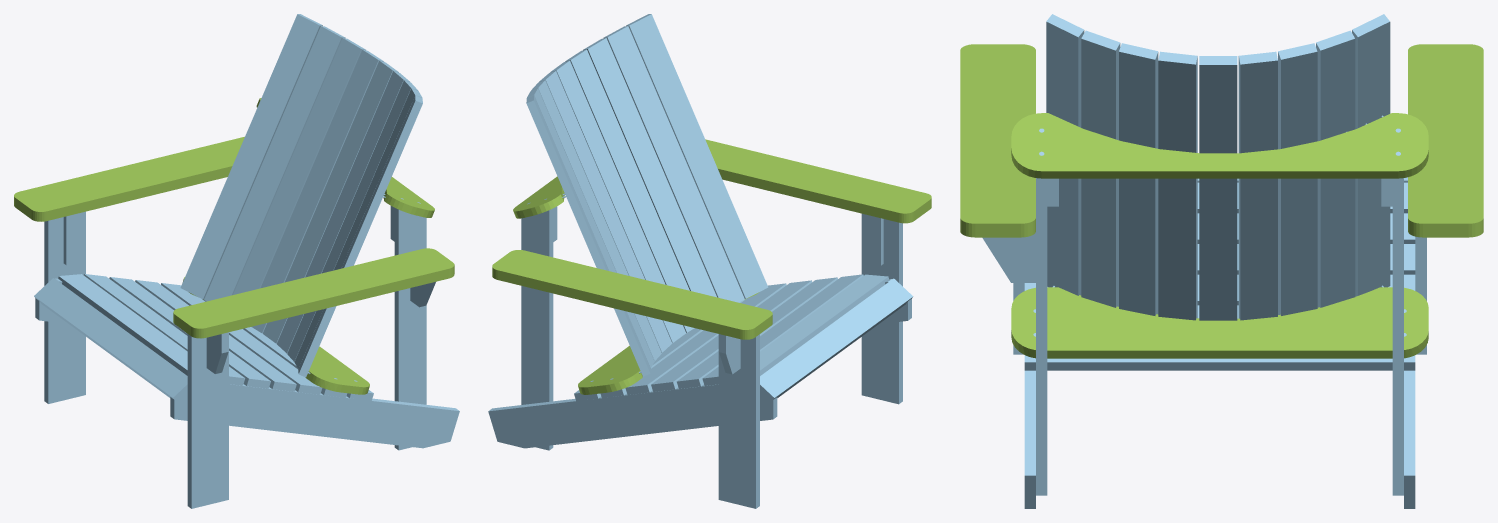
The model's file is alzatin_Adirondack-chair.glb.
The picture shows the model from 3 angles, left to right: view 1: azimuth 30°, elevation 25°; view 2: azimuth 150°, elevation 25°; view 3: azimuth 270°, elevation 25°; orthographic projection. The views are drawn at different scales.
Visible parts, largest first — view 1: part-15, part-37, part-79, part-36, part-74, part-6, part-59, part-49, part-1, part-119, part-23, part-44 (+14 smaller); view 2: part-19, part-36, part-39, part-37, part-69, part-64, part-1, part-54, part-6, part-24, part-119, part-44 (+13 smaller); view 3: part-10, part-31, part-36, part-37, part-49, part-54, part-44, part-59, part-64, part-74, part-69, part-79 (+9 smaller).
Part boxes in pixels (left/top/right/bottom): part-15: left=170, top=384, right=459, bottom=448; part-37: left=173, top=248, right=454, bottom=338; part-79: left=180, top=14, right=322, bottom=299; part-36: left=14, top=136, right=244, bottom=221; part-74: left=204, top=26, right=345, bottom=301; part-6: left=187, top=332, right=228, bottom=508; part-59: left=233, top=38, right=365, bottom=294; part-49: left=251, top=49, right=383, bottom=333; part-1: left=44, top=211, right=85, bottom=403; part-119: left=34, top=278, right=187, bottom=402; part-23: left=394, top=208, right=426, bottom=450; part-44: left=263, top=60, right=398, bottom=343; part-19: left=488, top=384, right=777, bottom=448; part-36: left=492, top=250, right=772, bottom=339; part-39: left=626, top=14, right=768, bottom=298; part-37: left=705, top=139, right=931, bottom=223; part-69: left=603, top=26, right=744, bottom=302; part-64: left=583, top=38, right=716, bottom=297; part-1: left=718, top=334, right=759, bottom=508; part-54: left=565, top=49, right=694, bottom=332; part-6: left=861, top=213, right=902, bottom=404; part-24: left=521, top=208, right=553, bottom=450; part-119: left=760, top=278, right=913, bottom=402; part-44: left=550, top=60, right=685, bottom=342; part-10: left=1011, top=287, right=1428, bottom=358; part-31: left=1011, top=113, right=1428, bottom=178; part-36: left=1408, top=44, right=1483, bottom=237; part-37: left=960, top=44, right=1035, bottom=237; part-49: left=1238, top=51, right=1277, bottom=320; part-54: left=1158, top=51, right=1197, bottom=320; part-44: left=1199, top=56, right=1237, bottom=320; part-59: left=1278, top=43, right=1317, bottom=315; part-64: left=1119, top=43, right=1158, bottom=315; part-74: left=1316, top=30, right=1355, bottom=307; part-69: left=1081, top=30, right=1120, bottom=307; part-79: left=1352, top=14, right=1390, bottom=296.
Size of the model in its own units: 30.8 by 34.74 by 34.5.
